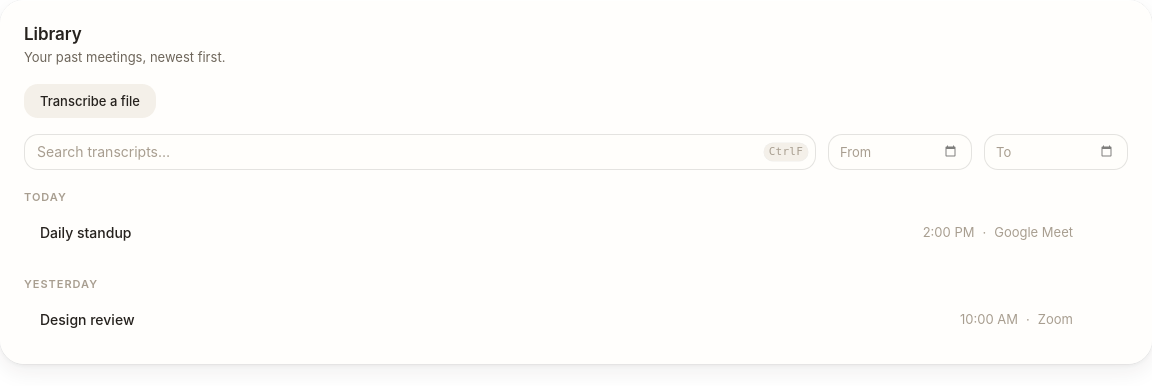
Test: Library › keeps the controls visible when a date filter returns no meetings
Expected: the element with test id "library-controls" is shown, [24,134,1128,170]
In the date field with test id "library-from": (900, 152) [828,134,972,170], type "2030-01-01"
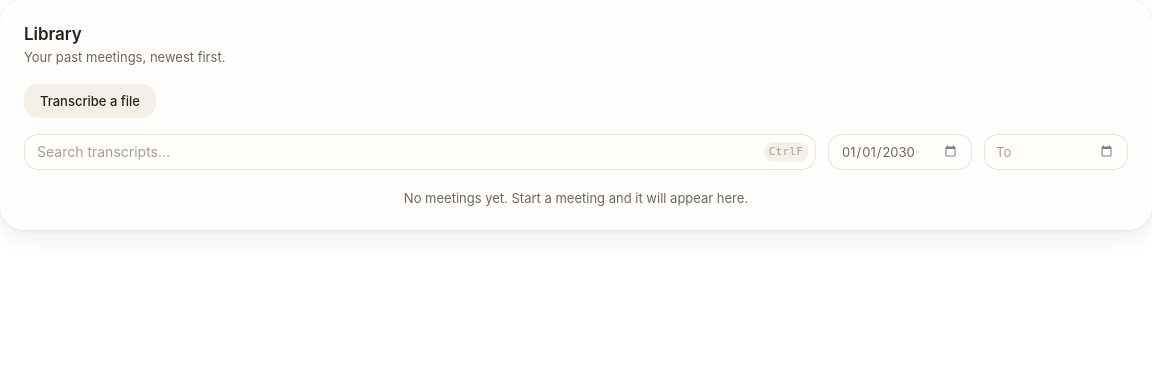
Expected: the element with test id "library-controls" is shown, [24,134,1128,170]
Expected: the text "No meetings yet. Start a meeting and it will appear here." is shown, [404,190,748,206]
